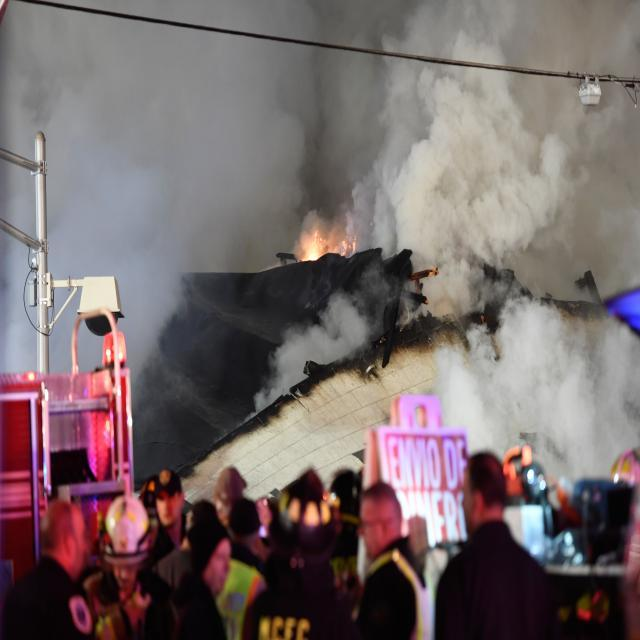Fire: (294, 222, 356, 272)
Smoke: (5, 0, 289, 460), (291, 284, 640, 540), (363, 2, 640, 272), (293, 0, 357, 213)
